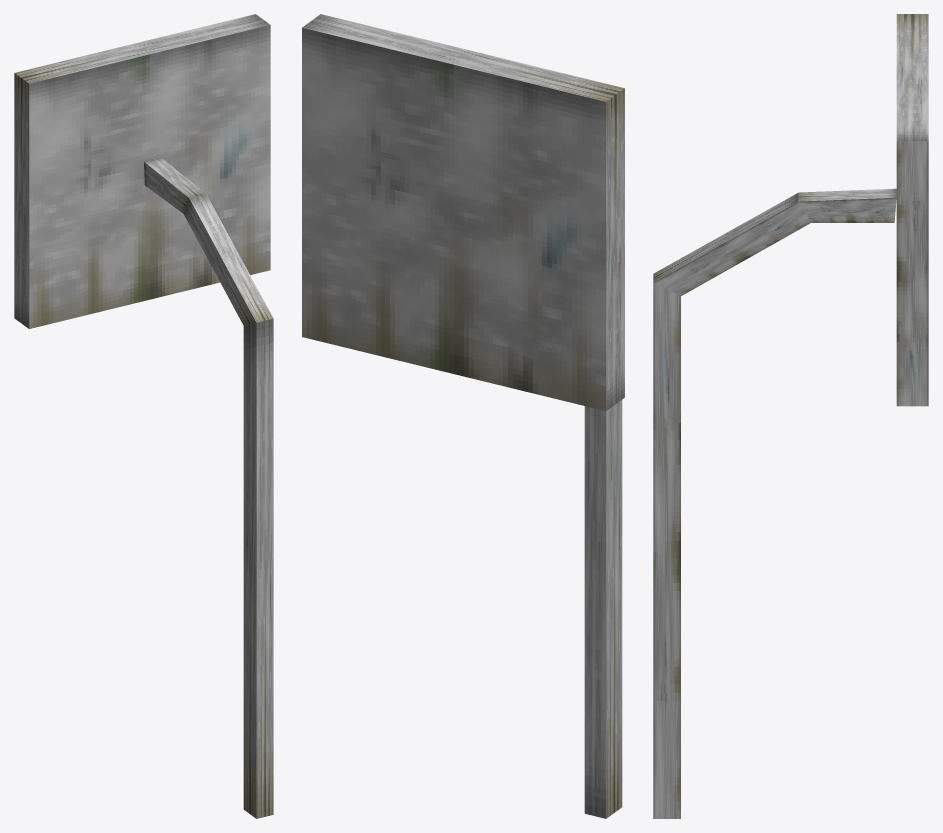
3 renders of one model, left to right at view 1: azimuth 30°, elevation 25°; view 2: azimuth 150°, elevation 25°; view 3: azimuth 270°, elevation 25°, orthographic. The views are drawn at different scales.
Parts seen in each view (by area): view 1: prim063-Box17; view 2: prim063-Box17; view 3: prim063-Box17.
Boxes of the visible parts, x1,y1,x2,y2 form: prim063-Box17: (14, 14, 273, 818); prim063-Box17: (302, 14, 624, 818); prim063-Box17: (653, 14, 928, 818).
Bounding box in the file's own units: 141 × 380 × 129.
1 material, 1 textured.
